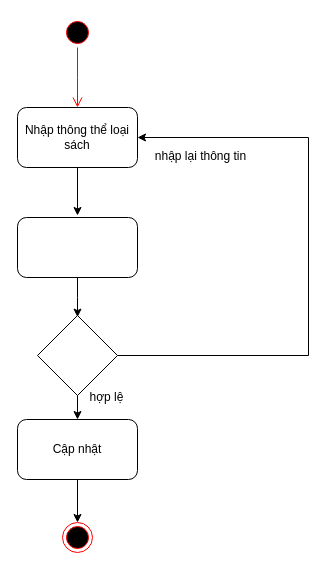
Image size: 334x570. Some labels were removed from this diagram. Here are the shapes that lost their labels. From the top down, the centre of each, then its label:
At (77,247): "Kiểm tra thông tin".
At (77,355): "else".
